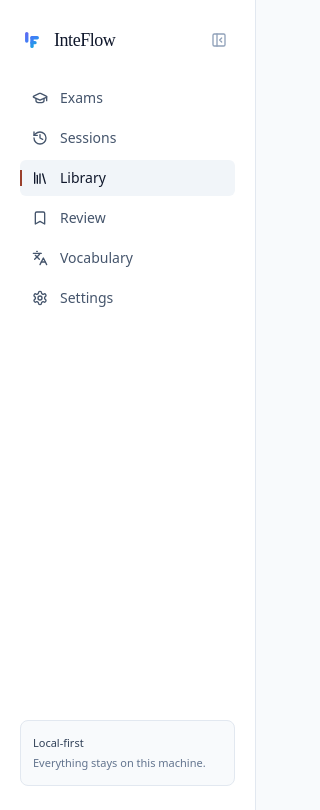
AppSidebar › collapses to icons only and remembers the choice
Step 1. Click the button named "Collapse sidebar" → (219, 40), box [203,24,235,56]
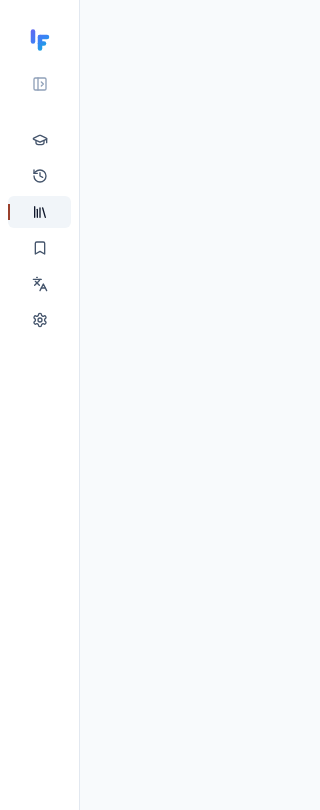
Check: the button named "Expand sidebar" is collapsed, box [24,68,56,100]
